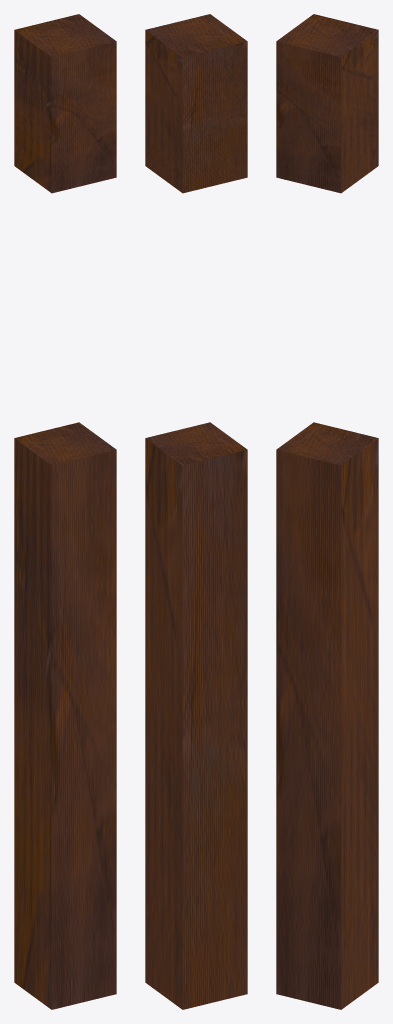
File: obs3.glb
3 renders of one model, left to right at view 1: azimuth 30°, elevation 25°; view 2: azimuth 210°, elevation 25°; view 3: azimuth 330°, elevation 25°, orthographic.
Visible parts, largest first — view 1: obs31; view 2: obs31; view 3: obs31.
Boxes of the visible parts, bbox=[...] form: obs31: bbox=[14, 14, 116, 1009]; obs31: bbox=[145, 14, 247, 1009]; obs31: bbox=[276, 14, 378, 1009].
Size of the model in its own units: 1 by 14 by 1.
Materials: 1 (1 with a texture image).
